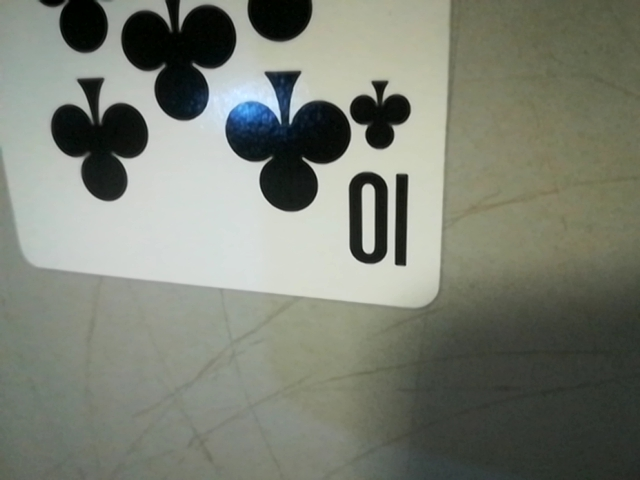mh 10: (339, 68, 431, 284)
